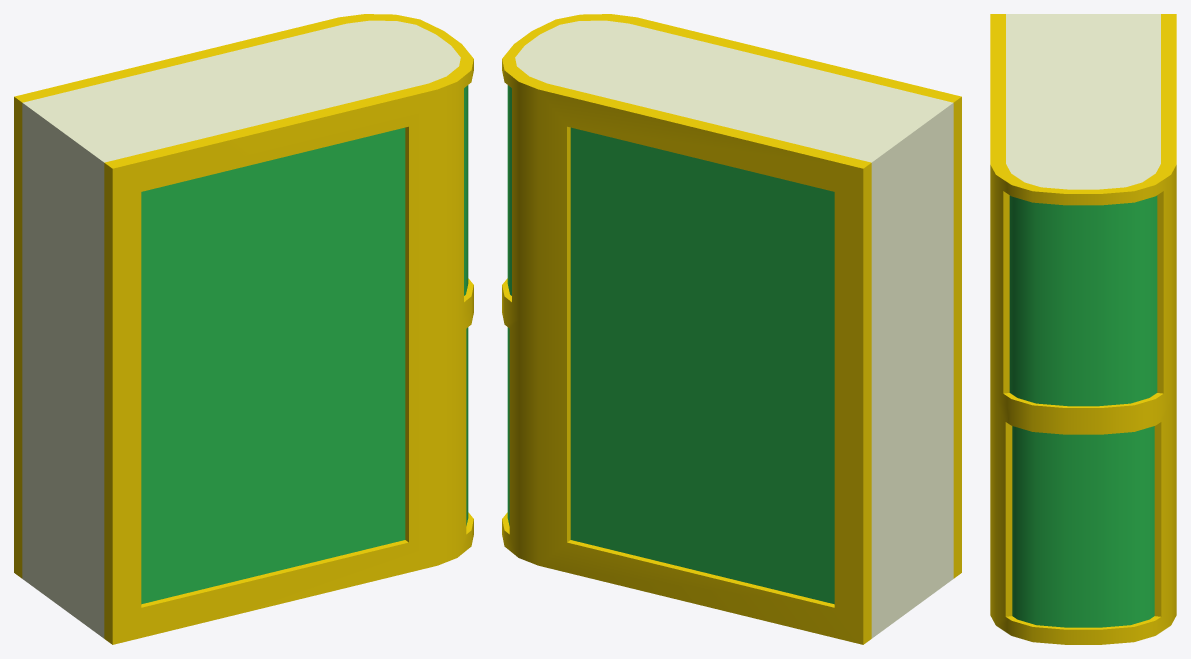
The model's file is Book_2.fbx.
3 renders of one model, left to right at view 1: azimuth 30°, elevation 25°; view 2: azimuth 150°, elevation 25°; view 3: azimuth 270°, elevation 25°, orthographic. The views are drawn at different scales.
Parts seen in each view (by area): view 1: Book_2; view 2: Book_2; view 3: Book_2.
Part boxes in pixels (left/top/right/bottom): Book_2: left=14, top=14, right=473, bottom=644; Book_2: left=502, top=14, right=961, bottom=644; Book_2: left=990, top=14, right=1176, bottom=644.
Size of the model in its own units: 0.3426 by 0.4 by 0.15.
